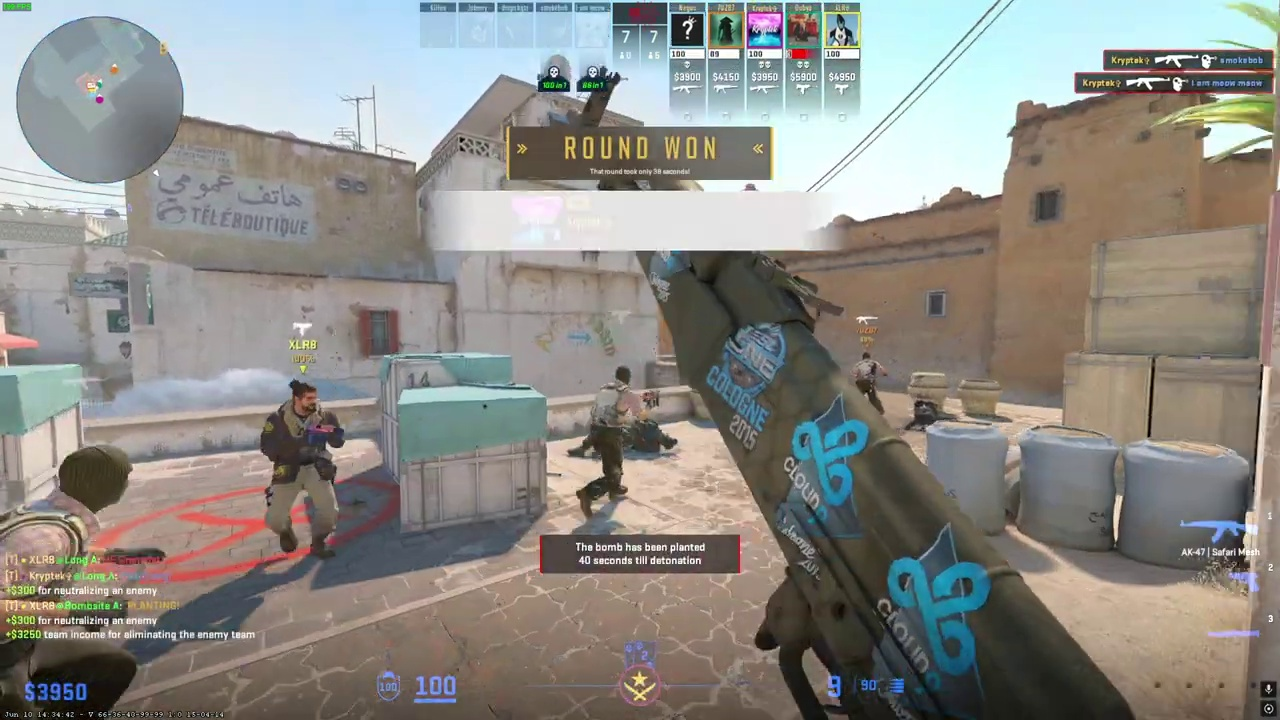Terrorist: (0, 447, 138, 719), (262, 381, 344, 560), (578, 366, 638, 522), (855, 351, 884, 413)
